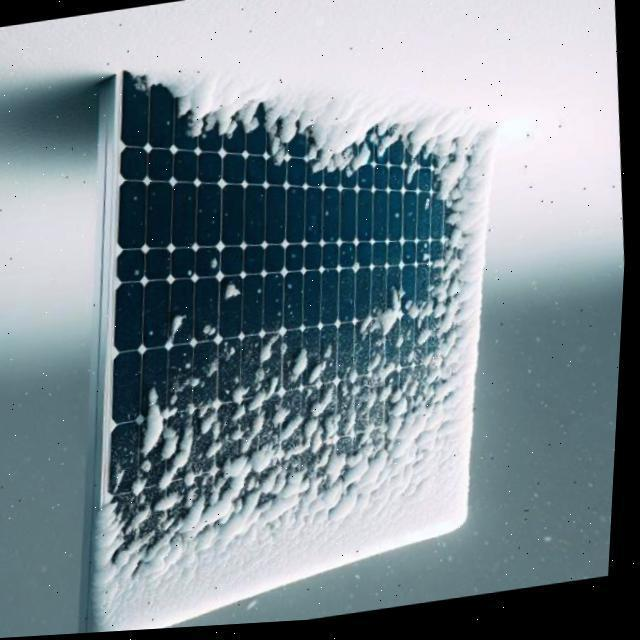Anomaly Solar Panel: (73, 68, 512, 635)
Snow: (73, 68, 511, 635)
